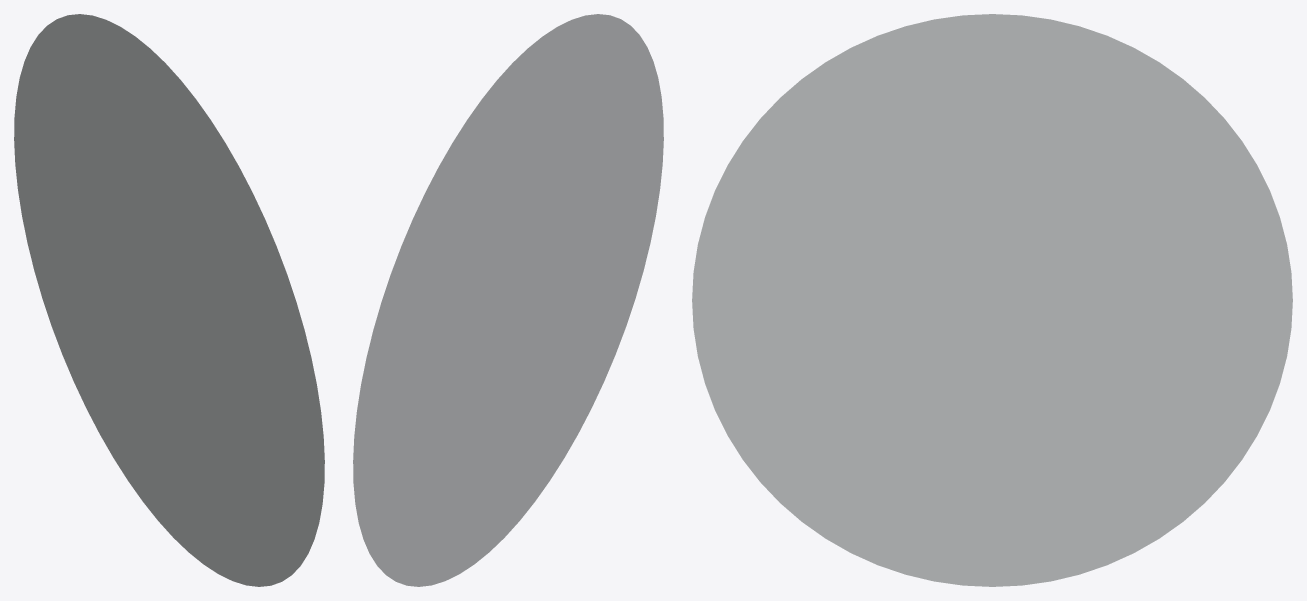
The model's file is drumsetV4_BigDrumFront.obj.
The picture shows the model from 3 angles, left to right: view 1: azimuth 30°, elevation 25°; view 2: azimuth 150°, elevation 25°; view 3: azimuth 270°, elevation 25°; orthographic projection.
Visible parts, largest first — view 1: drumsetV4_BigDrumFront_Cylinder.014; view 2: drumsetV4_BigDrumFront_Cylinder.014; view 3: drumsetV4_BigDrumFront_Cylinder.014.
Boxes of the visible parts, box(x1,y1,x2,y2) form: drumsetV4_BigDrumFront_Cylinder.014: box(14, 14, 324, 586); drumsetV4_BigDrumFront_Cylinder.014: box(353, 14, 663, 586); drumsetV4_BigDrumFront_Cylinder.014: box(692, 14, 1292, 586).
Size of the model in its own units: 0.2413 by 1.84 by 1.85.
